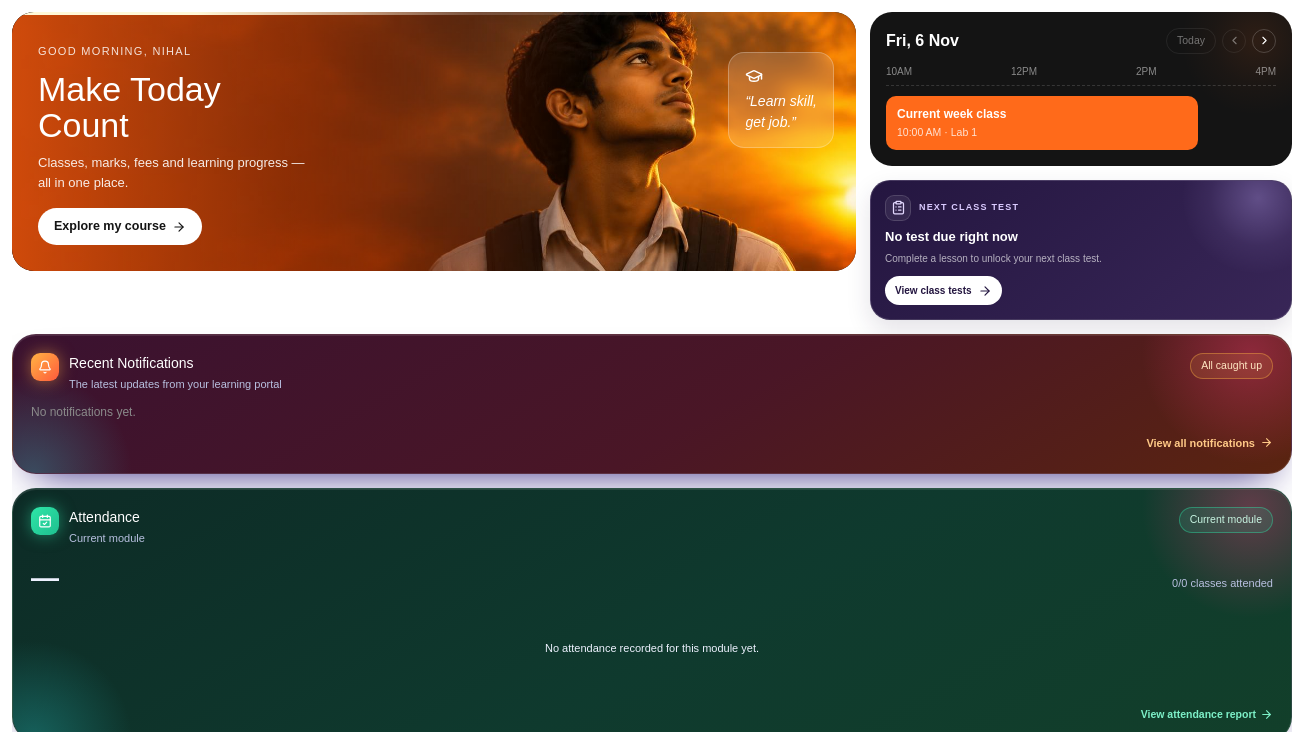
it: dashboard schedule navigation › offers next-week dates from the current demo week
This screenshot has width=1292, height=732.
Expected: the text "Fri, 6 Nov" is shown, [886,29,959,53]
Step 1. Click the button named "Next day" → (1264, 41), box [1252,29,1276,53]
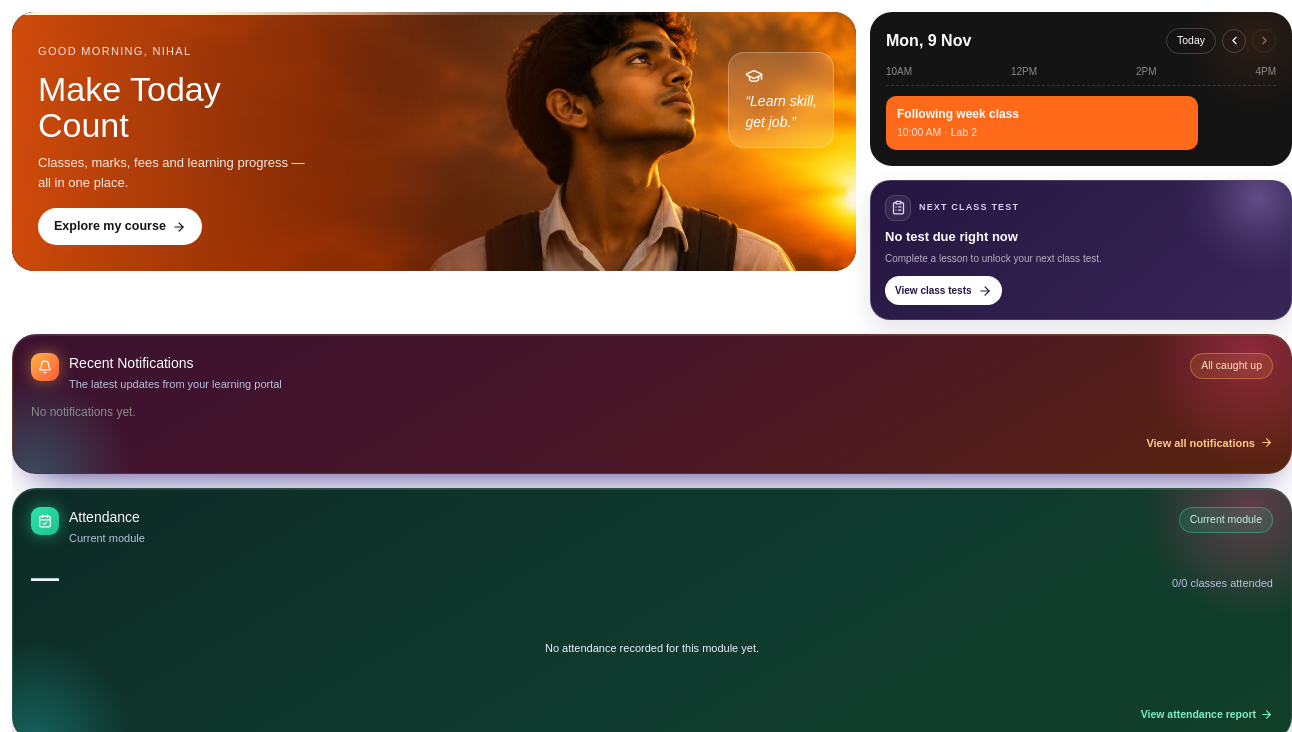
Result: the text "Mon, 9 Nov" is shown at [886,29,971,53]
Result: the text "Following week class" is shown at [897,105,1019,123]
